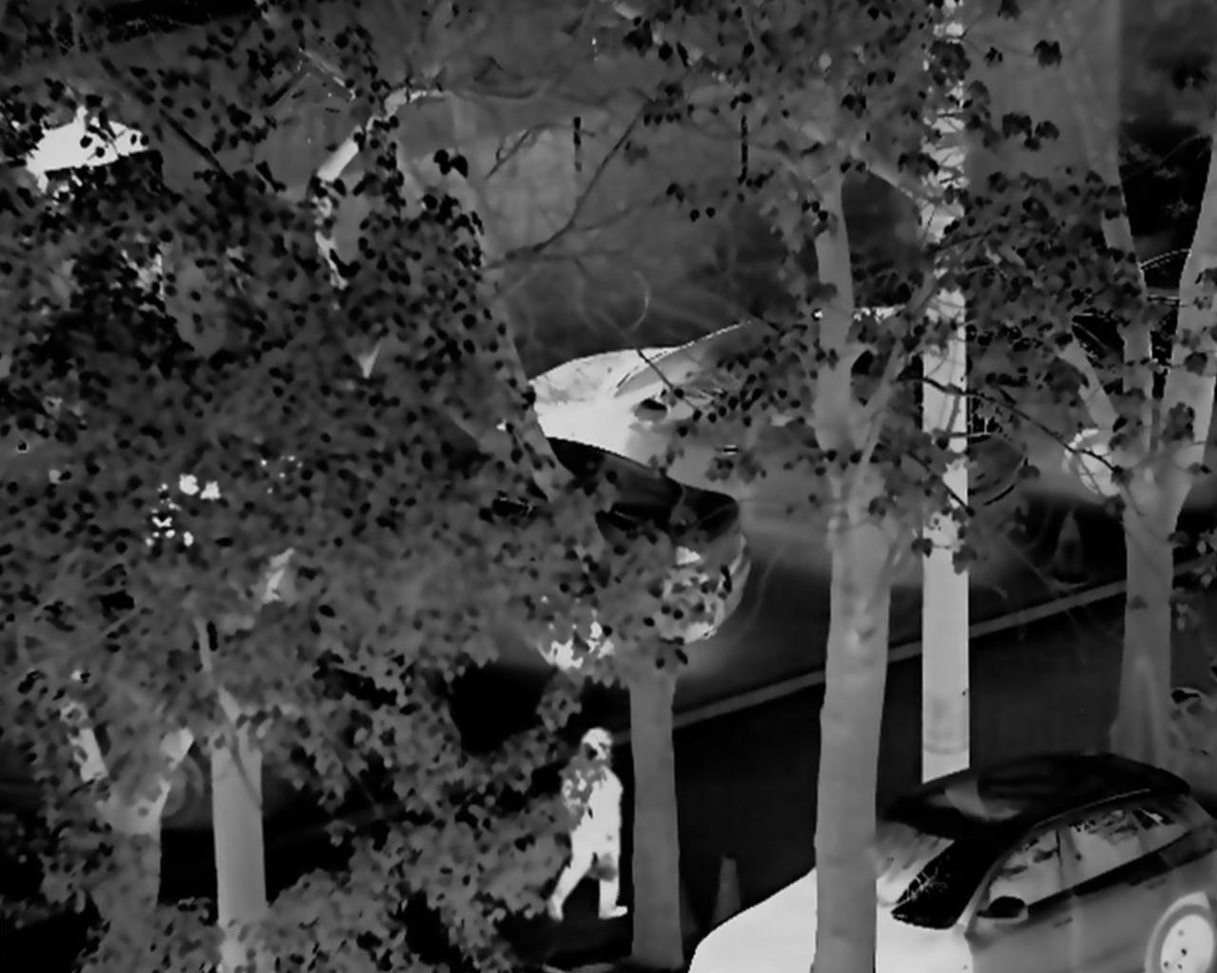person: (543, 724, 638, 928)
